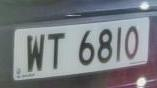0: (122, 21, 141, 66)
1: (113, 22, 126, 68)
6: (76, 26, 97, 73)
8: (96, 24, 115, 70)
T: (45, 28, 70, 76)
W: (23, 29, 47, 79)
